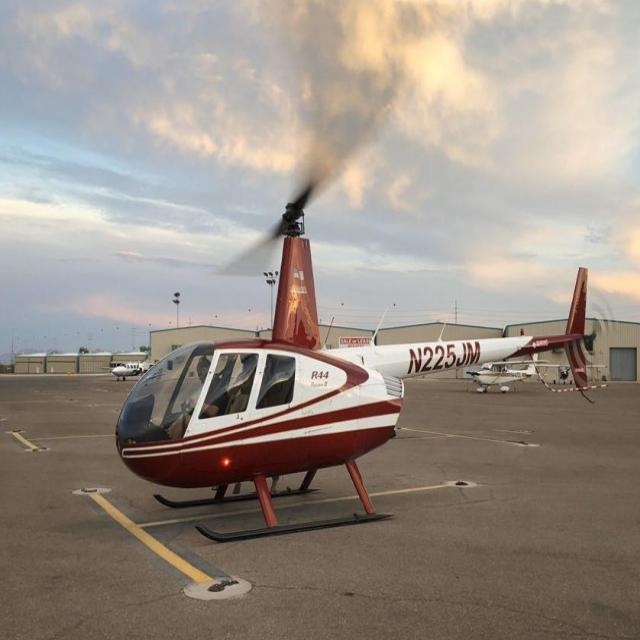helicopter: (110, 179, 614, 557)
